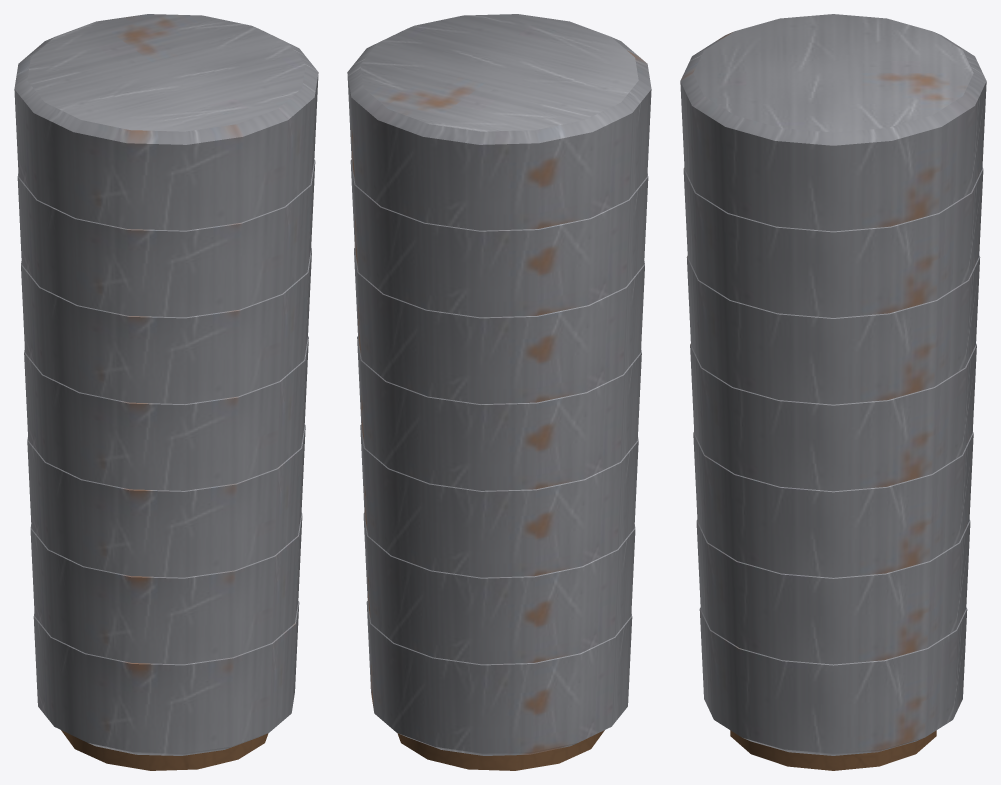
The model's file is manica_r.glb.
The picture shows the model from 3 angles, left to right: view 1: azimuth 30°, elevation 25°; view 2: azimuth 150°, elevation 25°; view 3: azimuth 270°, elevation 25°; orthographic projection.
Visible parts, largest first — view 1: OUT; view 2: OUT; view 3: OUT.
Part boxes in pixels (left/top/right/bottom): OUT: left=14, top=14, right=318, bottom=770; OUT: left=347, top=14, right=651, bottom=770; OUT: left=680, top=14, right=986, bottom=770.
Size of the model in its own units: 0.142 by 0.334 by 0.142.
Materials: 2 (2 with a texture image).
